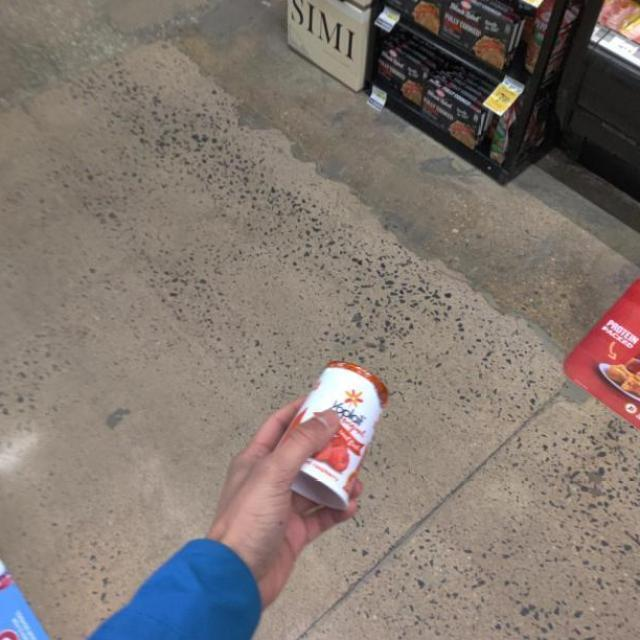Yogurt: (279, 362, 393, 509)
